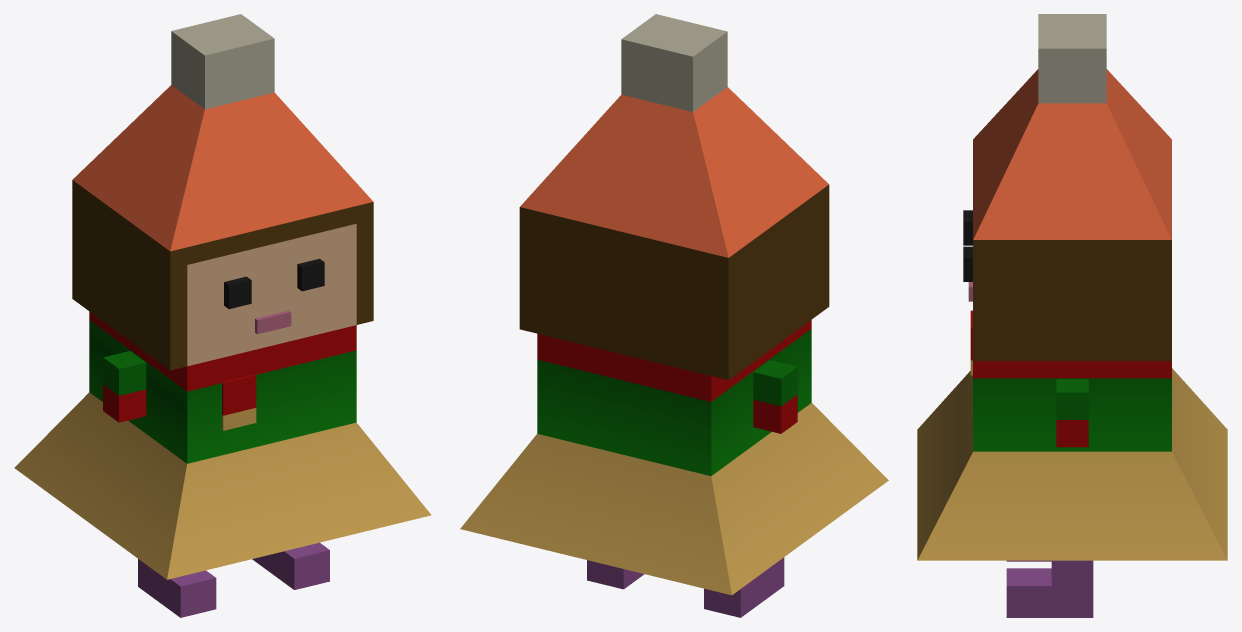
The model's file is 063 Xmas_Girl.fbx.
3 views of the same model, side by side, from view 1: azimuth 30°, elevation 25°; view 2: azimuth 150°, elevation 25°; view 3: azimuth 270°, elevation 25° (orthographic). The views are drawn at different scales.
Parts seen in each view (by area): view 1: Lowpoly_Christmas_Pack_063:pCube10; view 2: Lowpoly_Christmas_Pack_063:pCube10; view 3: Lowpoly_Christmas_Pack_063:pCube10.
Boxes of the visible parts, x1=… form: Lowpoly_Christmas_Pack_063:pCube10: x1=14, y1=14, x2=431, y2=617; Lowpoly_Christmas_Pack_063:pCube10: x1=460, y1=14, x2=888, y2=617; Lowpoly_Christmas_Pack_063:pCube10: x1=917, y1=14, x2=1227, y2=617.
Size of the model in its own units: 1.56 by 3.05 by 1.56.
